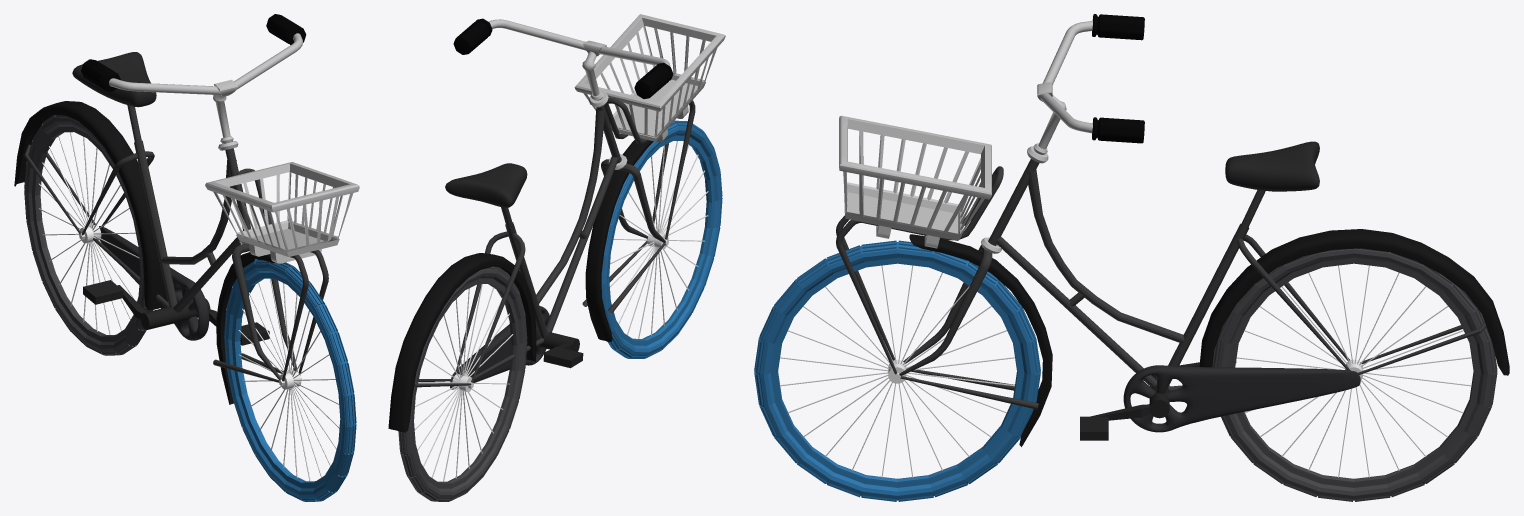
Rendered from Bike.fbx.
3 renders of one model, left to right at view 1: azimuth 30°, elevation 25°; view 2: azimuth 150°, elevation 25°; view 3: azimuth 270°, elevation 25°, orthographic. The views are drawn at different scales.
Parts seen in each view (by area): view 1: basee, Front wheel, Basket, Wheel protectors, Second wheel, METAL between wheel, CHain case, steering wheel, Saddle, Cube.001, Steering wheel hand thing, Step things; view 2: basee, Wheel protectors, Front wheel, Second wheel, Basket, METAL between wheel, Saddle, steering wheel, Steering wheel hand thing, CHain case, Cube.001, Step things; view 3: Front wheel, Second wheel, basee, Basket, Wheel protectors, CHain case, METAL between wheel, Saddle, Steering wheel hand thing, steering wheel, Cube.001.
Part boxes in pixels (x1,y1,x2,y2): basee: [24, 105, 328, 382]; Front wheel: [224, 259, 356, 501]; Basket: [205, 162, 359, 263]; Wheel protectors: [14, 101, 274, 404]; Second wheel: [24, 115, 152, 355]; METAL between wheel: [38, 132, 339, 481]; CHain case: [99, 226, 209, 340]; steering wheel: [109, 33, 302, 137]; Saddle: [72, 52, 156, 107]; Cube.001: [83, 280, 269, 345]; Steering wheel hand thing: [81, 14, 306, 91]; Step things: [140, 298, 210, 329]; basee: [414, 98, 695, 387]; Wheel protectors: [388, 138, 653, 432]; Front wheel: [601, 120, 722, 358]; Second wheel: [398, 266, 527, 501]; Basket: [574, 14, 725, 142]; METAL between wheel: [414, 141, 708, 481]; Saddle: [445, 163, 527, 207]; steering wheel: [488, 19, 670, 96]; Steering wheel hand thing: [453, 18, 673, 98]; CHain case: [450, 306, 549, 389]; Cube.001: [543, 313, 583, 368]; Step things: [536, 329, 579, 351]; Front wheel: [754, 240, 1040, 501]; Second wheel: [1212, 248, 1497, 501]; basee: [836, 159, 1486, 409]; Basket: [839, 115, 991, 248]; Wheel protectors: [909, 229, 1509, 446]; CHain case: [1123, 365, 1360, 432]; METAL between wheel: [780, 265, 1471, 477]; Saddle: [1225, 141, 1319, 191]; Steering wheel hand thing: [1092, 14, 1144, 143]; steering wheel: [1038, 21, 1092, 149]; Cube.001: [1080, 361, 1236, 440].
Size of the model in its own units: 161 by 288 by 454.
